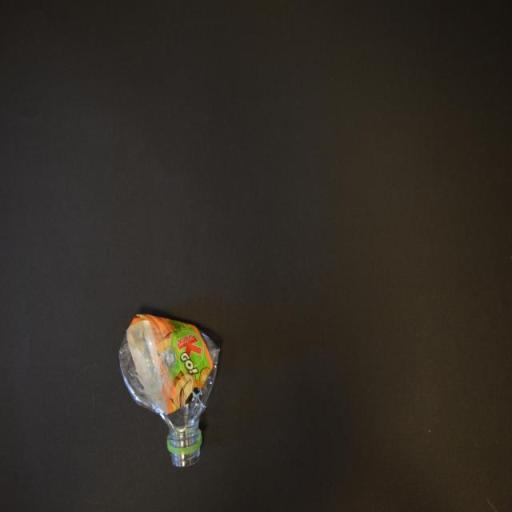plastic: (118, 307, 221, 468)
